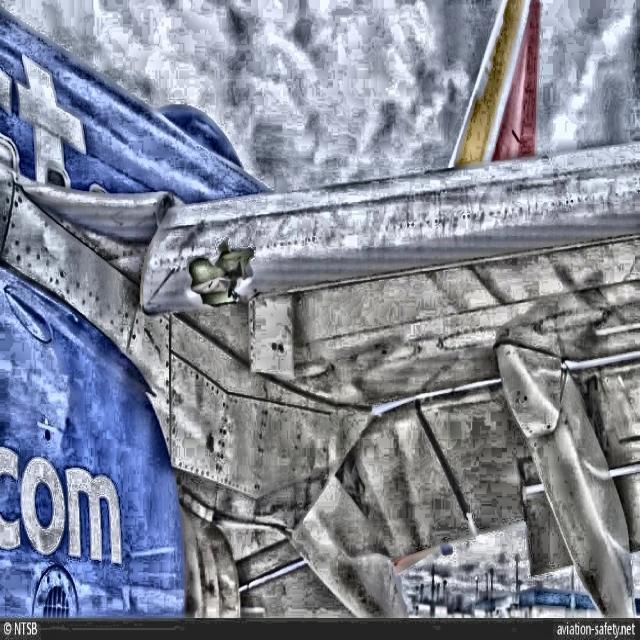crack: (189, 248, 255, 312)
